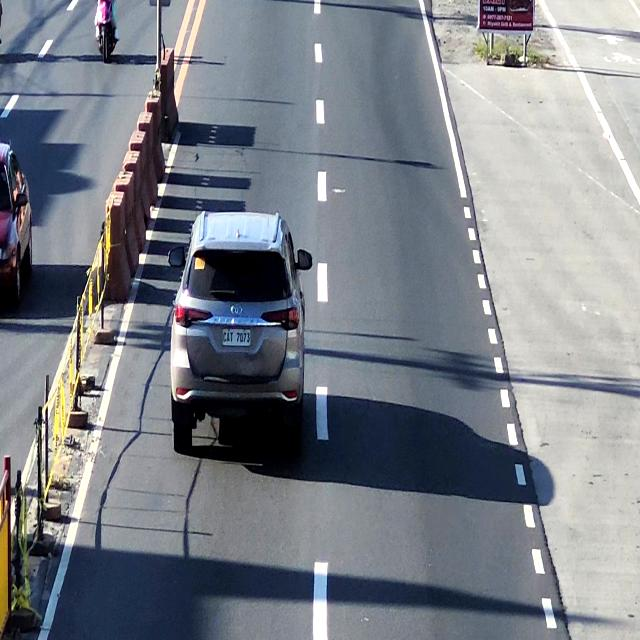Car: (170, 211, 306, 451)
License-Plate: (220, 328, 251, 348)
